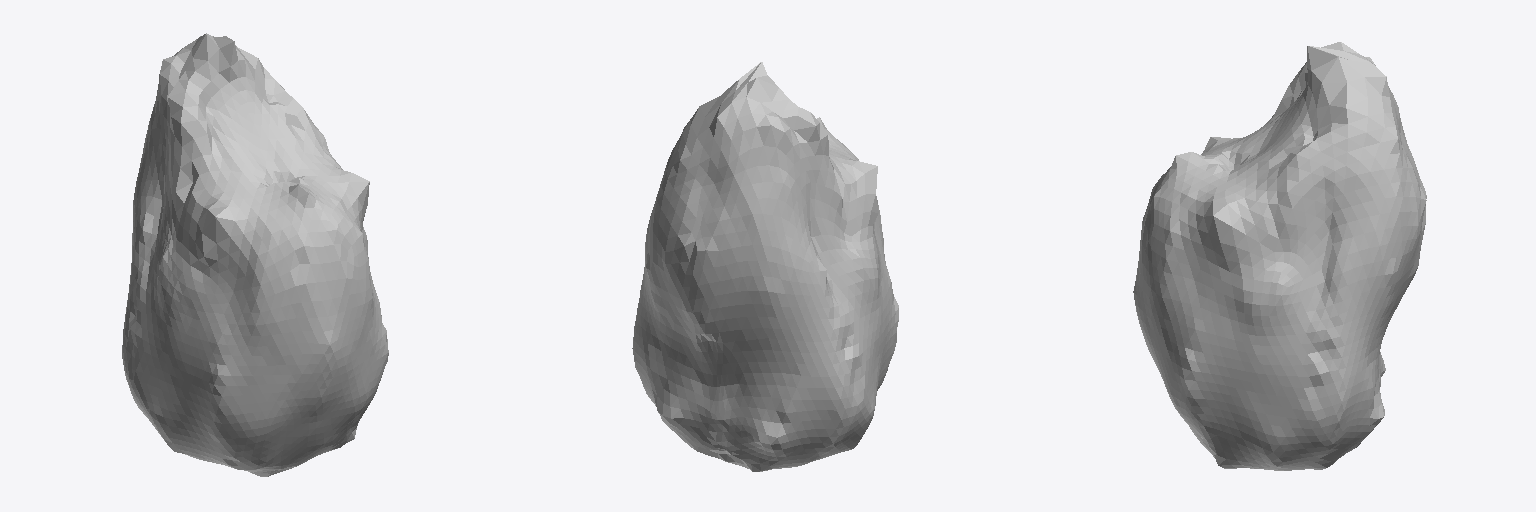
Rendered from Fire.obj.
The picture shows the model from 3 angles: view 1: azimuth 30°, elevation 25°; view 2: azimuth 150°, elevation 25°; view 3: azimuth 270°, elevation 25°; orthographic projection.
Visible parts, largest first — view 1: Icosphere; view 2: Icosphere; view 3: Icosphere.
Part boxes in pixels (bbox=[...]): Icosphere: bbox=[122, 33, 388, 476]; Icosphere: bbox=[632, 62, 898, 471]; Icosphere: bbox=[1133, 42, 1426, 470].
Bounding box in the file's own units: 1.57 × 2.84 × 1.83.